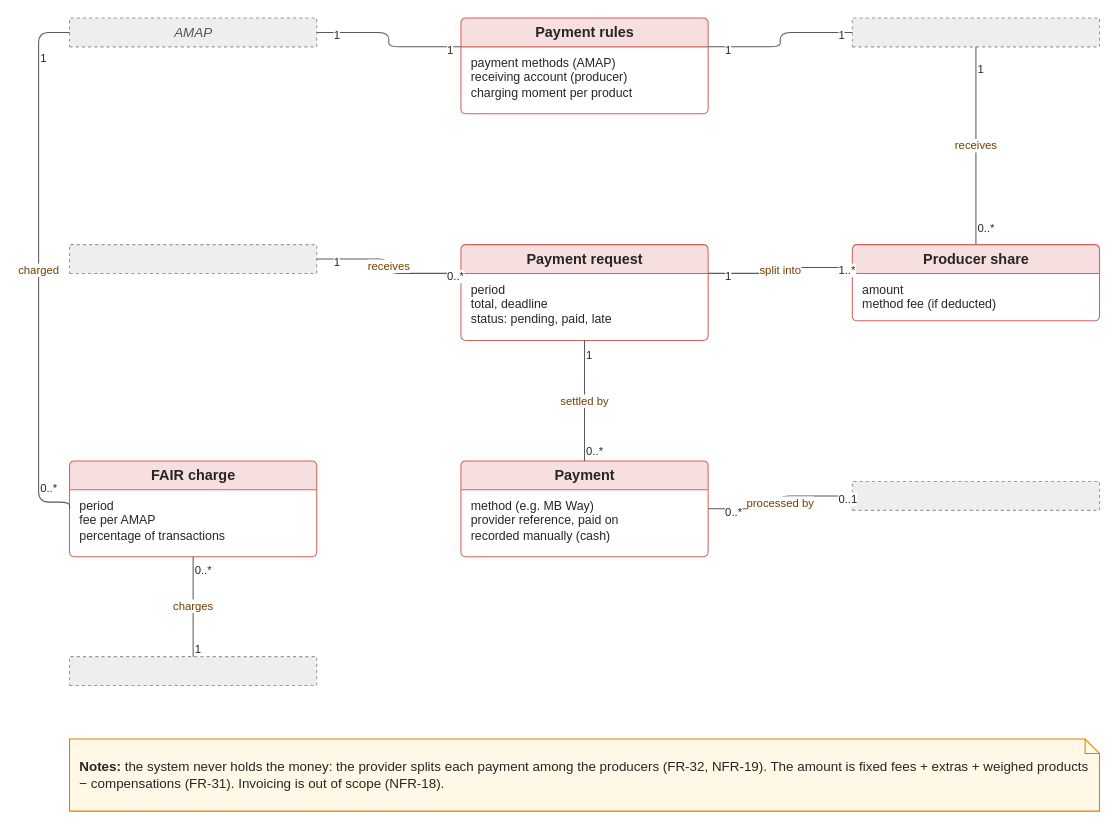
The diagram is 1118 pixels wide and 829 high, and some of its shapes have lost their labels. Each missing label, with the centre of its shape:
FAIR (platform): point 192,670
Licensed payment provider: point 975,495
Membership (co-producer): point 192,258
Membership (producer): point 975,32
